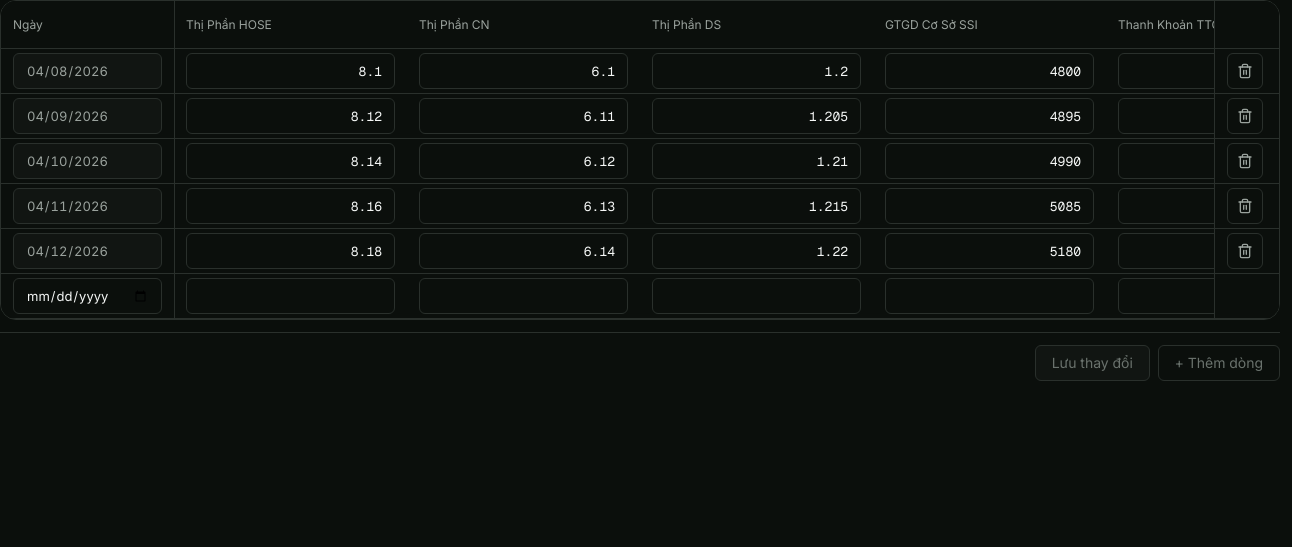
Scenario: DataGrid › opens delete confirm dialog
Click the button named "Xóa dòng 2026-04-08".
click(1245, 71)  # box [1227, 53, 1263, 89]
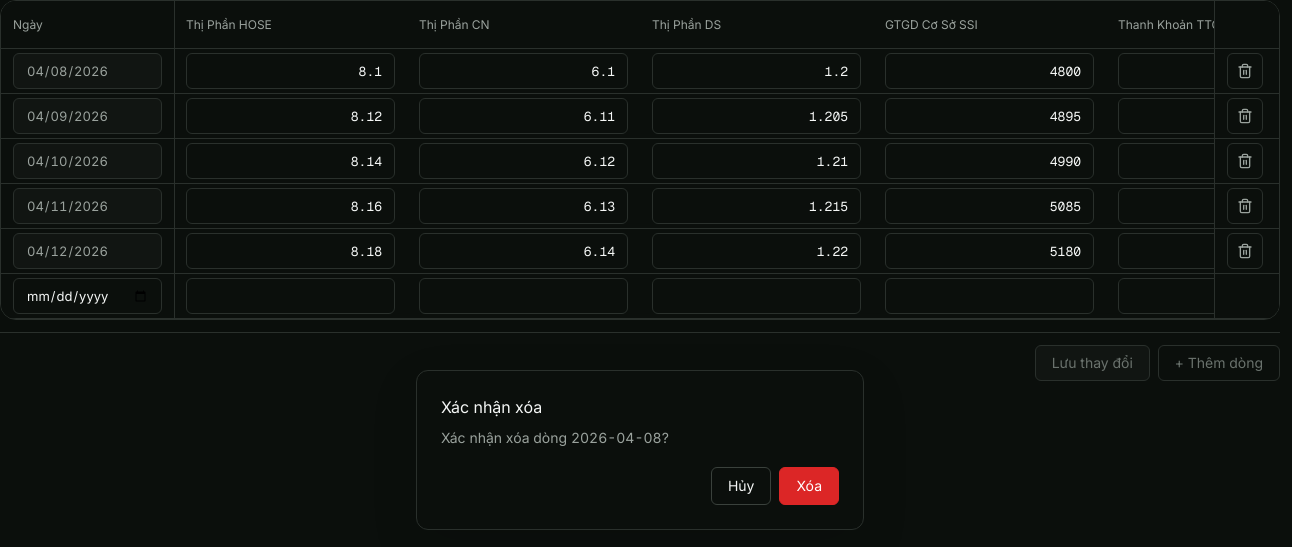
Result: the text "Xác nhận xóa dòng 2026-04-08?" is shown at [441, 430, 669, 447]
